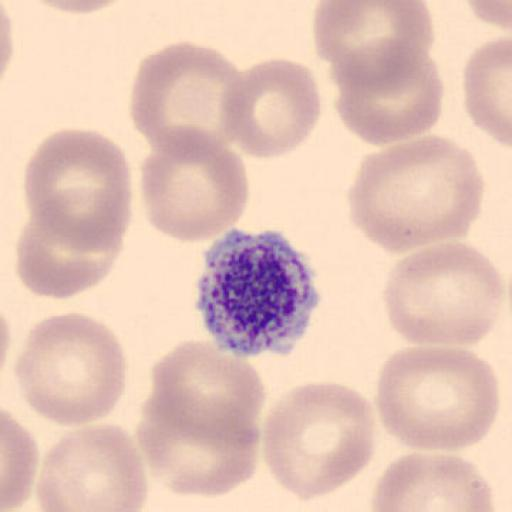Platelet: (191, 225, 324, 359)
RBC: (138, 340, 266, 498), (346, 132, 486, 254), (261, 380, 378, 503), (127, 39, 248, 157), (12, 310, 130, 428), (137, 122, 250, 245), (22, 128, 134, 252), (134, 394, 262, 499), (376, 345, 500, 453), (381, 240, 506, 347), (147, 338, 267, 442), (334, 44, 444, 145), (217, 56, 322, 160), (36, 421, 150, 511), (14, 212, 124, 300), (312, 1, 436, 77), (369, 451, 496, 512), (35, 183, 131, 251), (462, 36, 512, 150), (2, 408, 38, 512), (22, 0, 132, 16), (0, 0, 17, 92), (465, 0, 512, 32), (0, 1, 14, 81), (0, 303, 11, 380)
